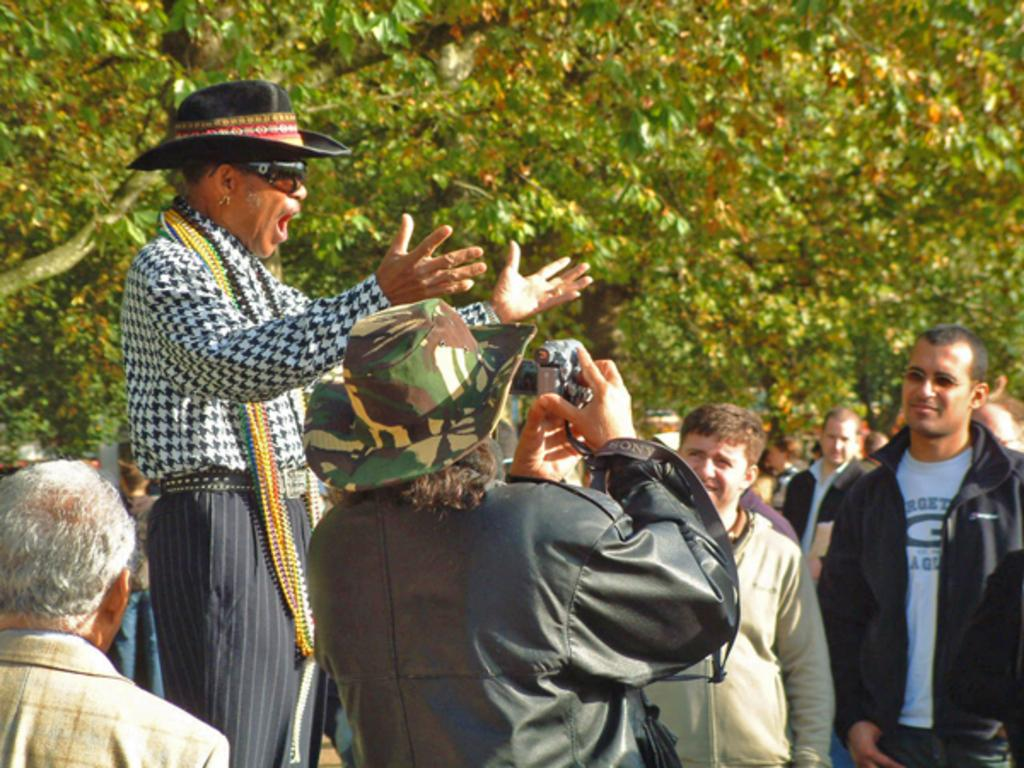Hat: (303, 298, 539, 487), (128, 84, 348, 168)
